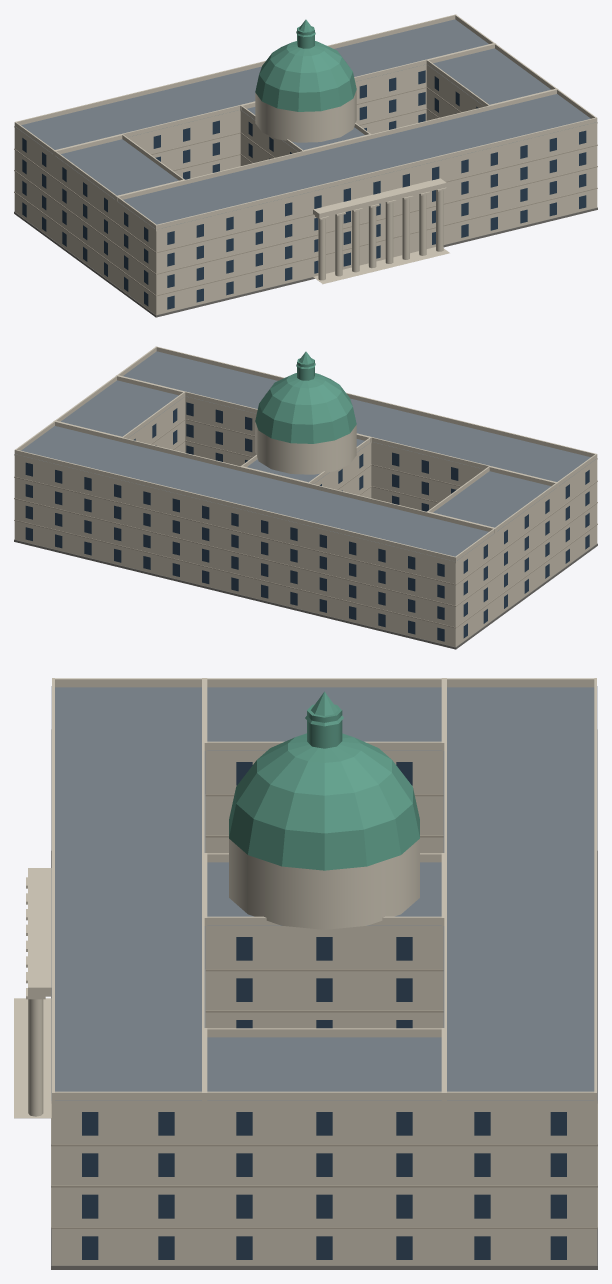
The model's file is universite.glb.
3 views of the same model, one above another, from view 1: azimuth 30°, elevation 25°; view 2: azimuth 150°, elevation 25°; view 3: azimuth 270°, elevation 25° (orthographic). The views are drawn at different scales.
Visible parts, largest first — view 1: universite; view 2: universite; view 3: universite.
Part boxes in pixels (bbox=[...]): universite: bbox=[14, 14, 597, 317]; universite: bbox=[14, 346, 597, 649]; universite: bbox=[14, 678, 597, 1269].
Bounding box in the file's own units: 90.2 × 37.55 × 53.6.
Materials: 1 (1 with a texture image).
